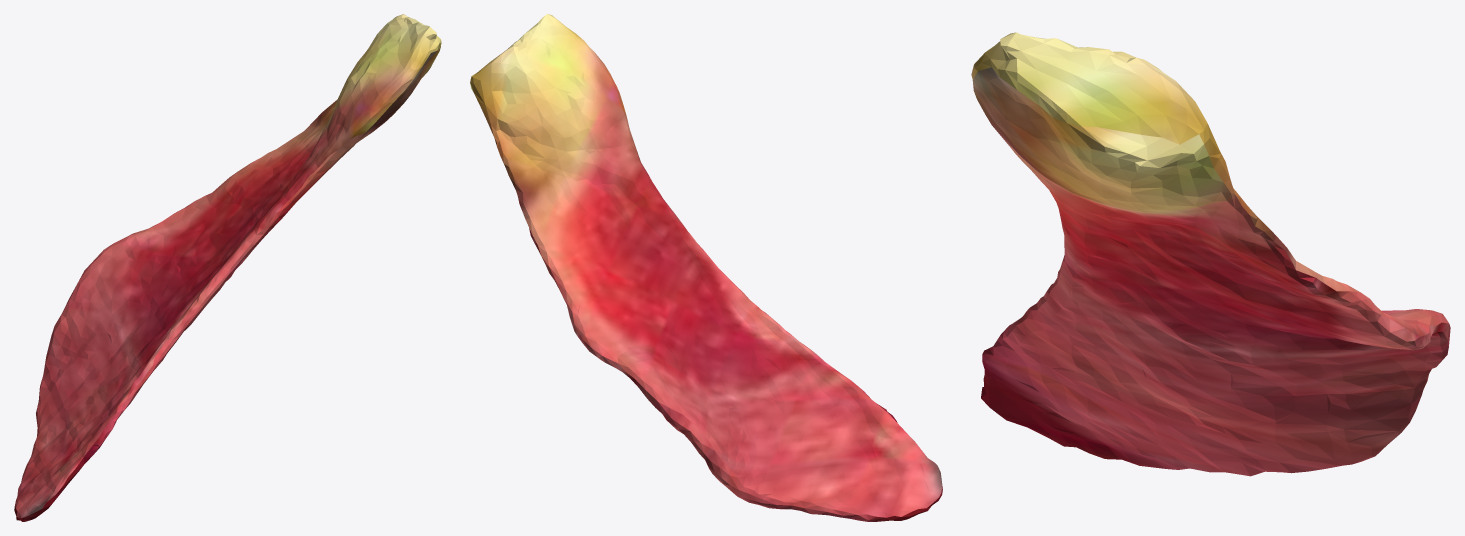
File: mapleseed.fbx
The picture shows the model from 3 angles, left to right: view 1: azimuth 30°, elevation 25°; view 2: azimuth 150°, elevation 25°; view 3: azimuth 270°, elevation 25°; orthographic projection. The views are drawn at different scales.
Visible parts, largest first — view 1: MapleSeedSTL; view 2: MapleSeedSTL; view 3: MapleSeedSTL.
Boxes of the visible parts, bbox=[...] form: MapleSeedSTL: bbox=[14, 14, 441, 521]; MapleSeedSTL: bbox=[470, 14, 942, 521]; MapleSeedSTL: bbox=[971, 32, 1450, 476].
Size of the model in its own units: 3720 by 3280 by 1792.
1 material, 1 textured.
